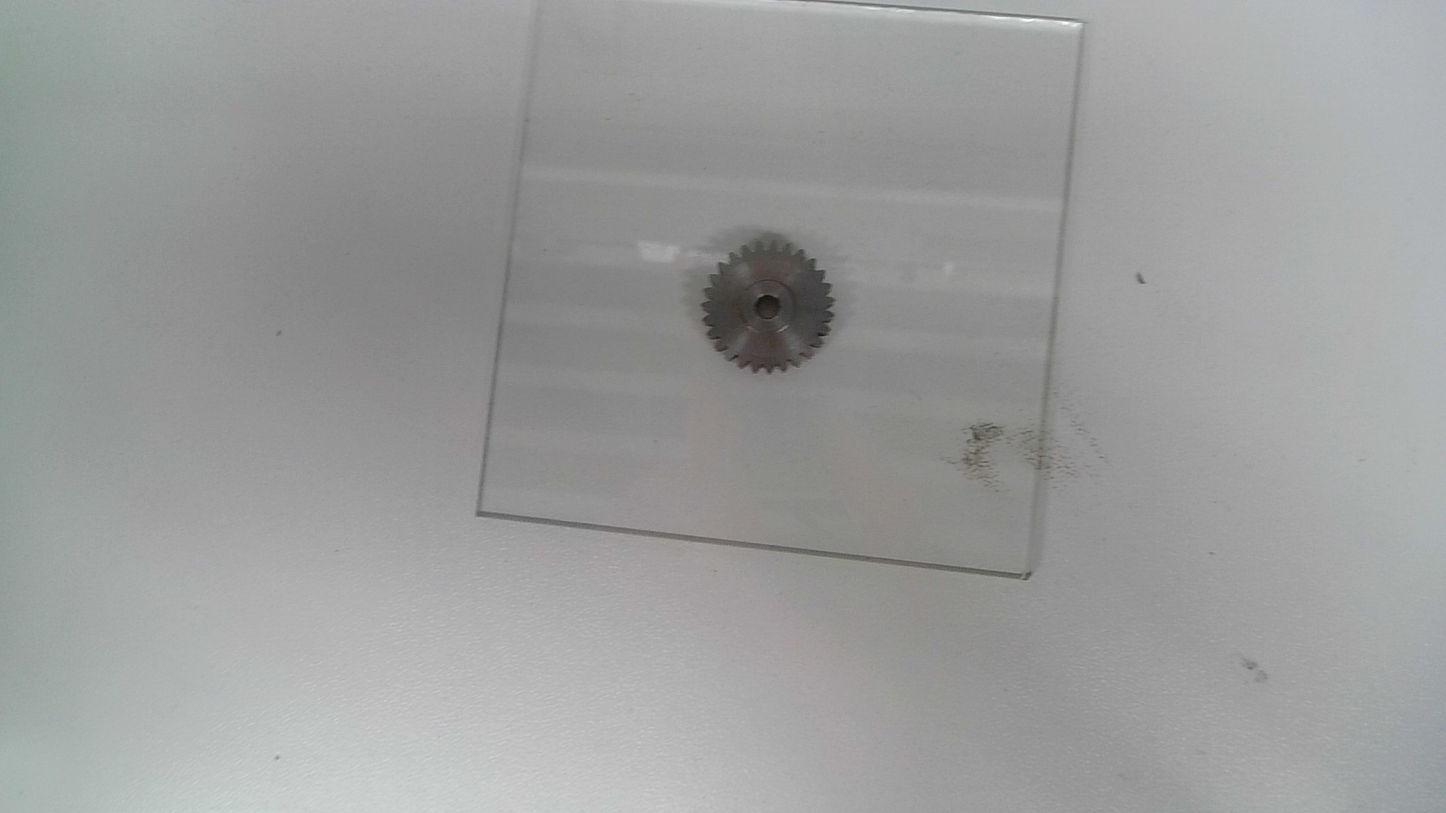gear: (701, 238, 835, 377)
